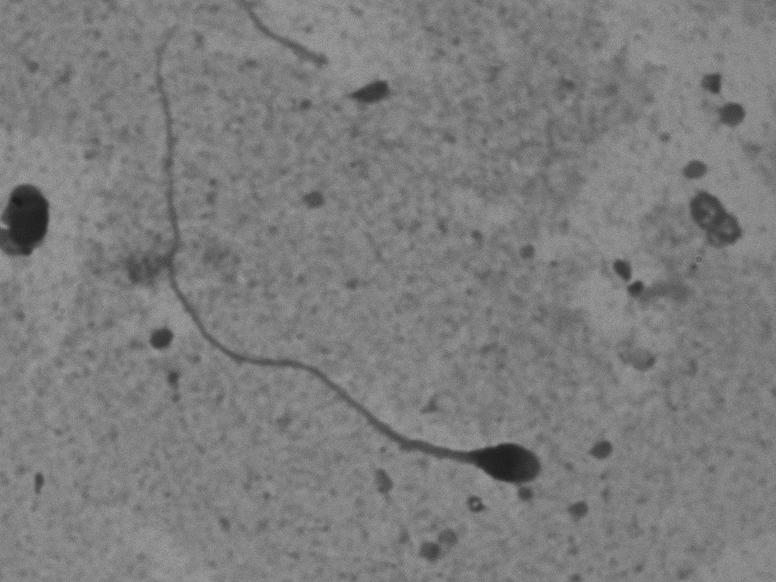Normal: (118, 56, 564, 517)
